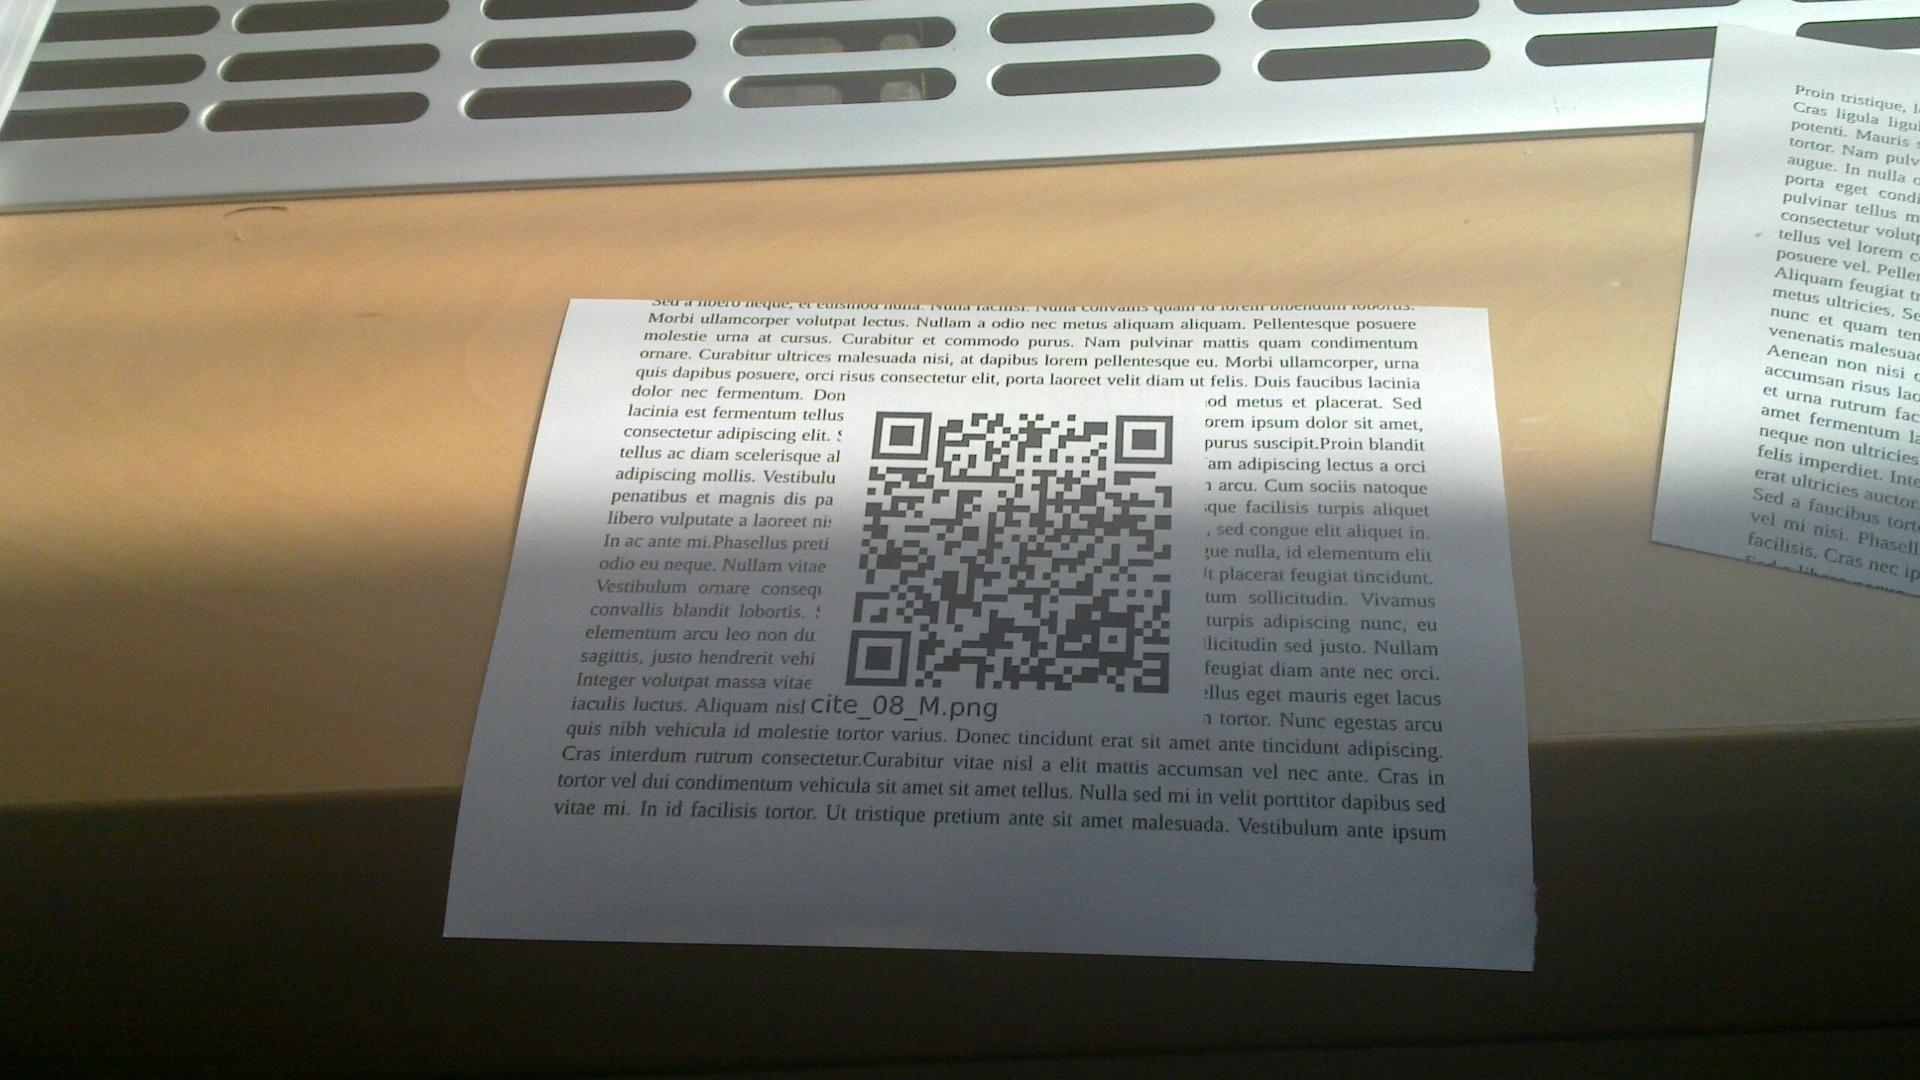Finder pattern: (843, 622, 914, 688), (868, 404, 934, 465), (1109, 410, 1175, 467)
